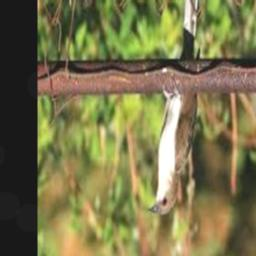Cuckoo: (147, 0, 199, 215)
